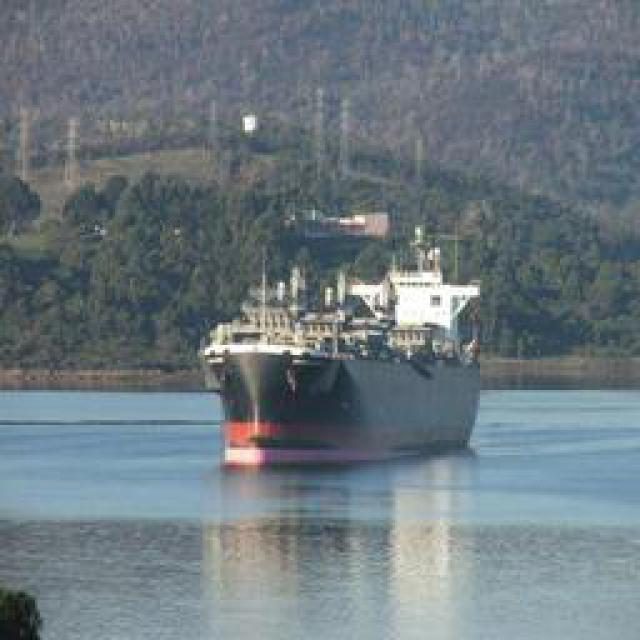Ship: (204, 210, 484, 473)
